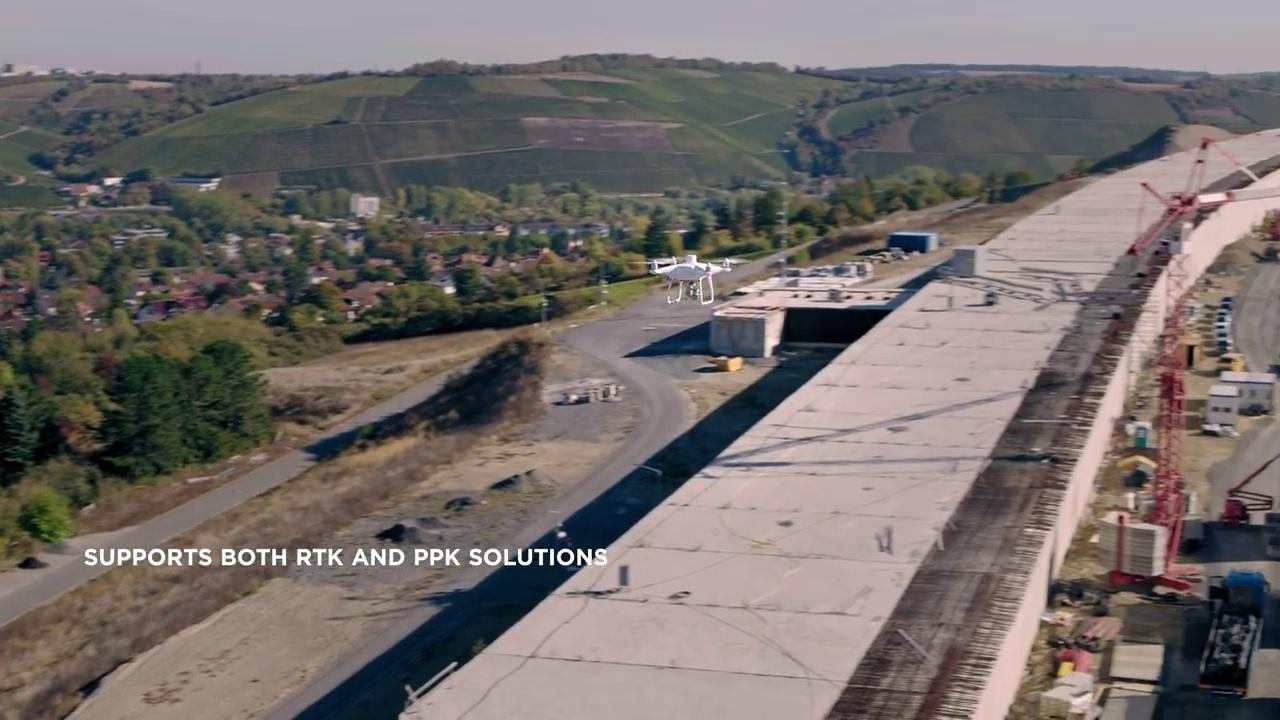drone: (627, 251, 750, 306)
